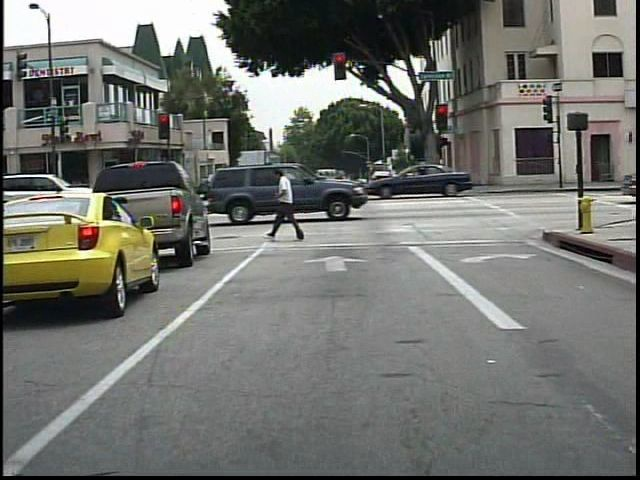person: (271, 165, 310, 243), (263, 166, 290, 208)
